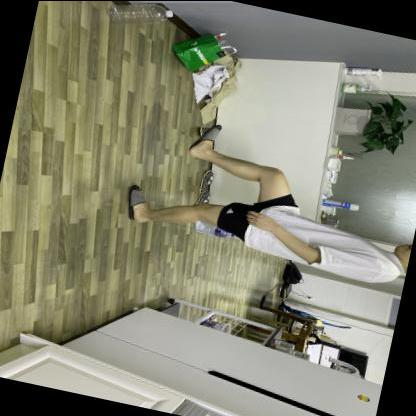no_safety-shoe: (110, 177, 161, 228), (181, 113, 225, 166)
